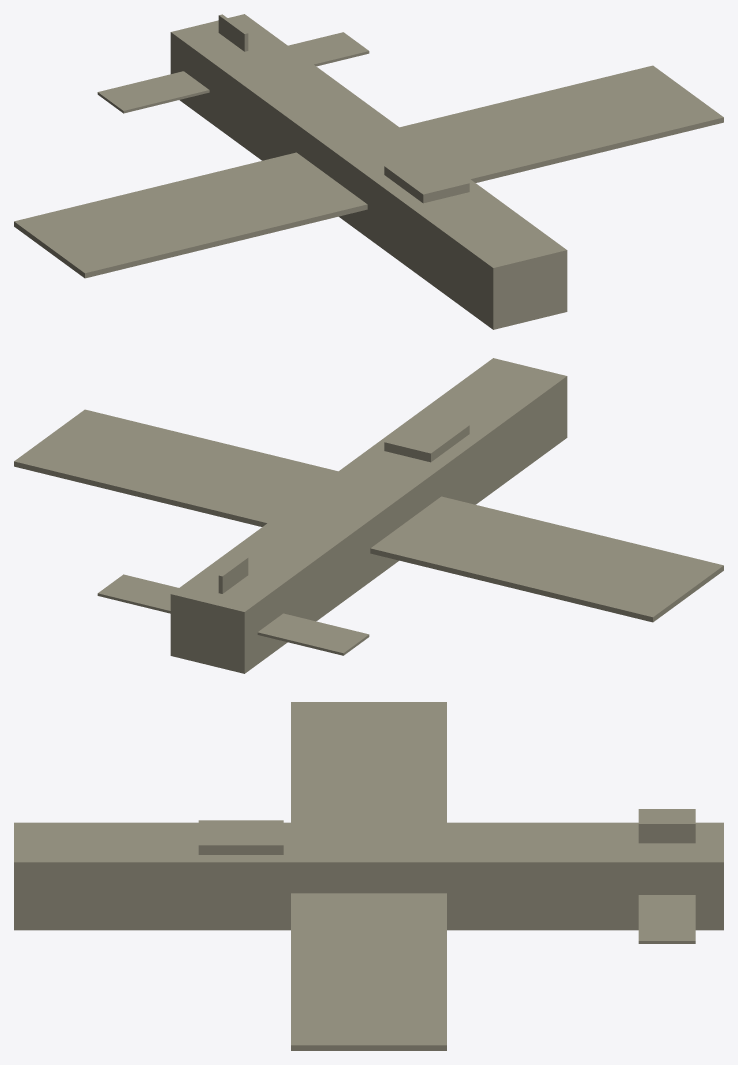
3 renders of one model, top to bottom at view 1: azimuth 30°, elevation 25°; view 2: azimuth 150°, elevation 25°; view 3: azimuth 270°, elevation 25°, orthographic. The views are drawn at different scales.
Visible parts, largest first — view 1: Fuselage, Wing_L, Wing_R, Cockpit, Elevator_L, Elevator_R, Rudder; view 2: Fuselage, Wing_L, Wing_R, Cockpit, Elevator_L, Elevator_R, Rudder; view 3: Fuselage, Wing_R, Wing_L, Cockpit, Elevator_R, Rudder, Elevator_L.
Part boxes in pixels (x1,y1,x2,y2): Fuselage: [170, 14, 567, 329]; Wing_L: [14, 152, 367, 278]; Wing_R: [400, 65, 723, 182]; Cockpit: [384, 155, 469, 203]; Elevator_L: [97, 71, 209, 113]; Elevator_R: [288, 32, 369, 66]; Rudder: [218, 14, 248, 51]; Fuselage: [170, 358, 567, 673]; Wing_L: [370, 496, 723, 622]; Wing_R: [14, 409, 337, 526]; Cockpit: [384, 414, 469, 462]; Elevator_L: [257, 613, 369, 655]; Elevator_R: [97, 574, 178, 613]; Rudder: [218, 556, 248, 593]; Fuselage: [14, 822, 723, 930]; Wing_R: [291, 893, 446, 1050]; Wing_L: [291, 702, 446, 822]; Cockpit: [198, 820, 283, 854]; Elevator_R: [638, 895, 695, 943]; Rudder: [638, 822, 695, 843]; Elevator_L: [638, 809, 695, 821].
Bounding box in the file's own units: 10.3 × 1.22 × 9.
